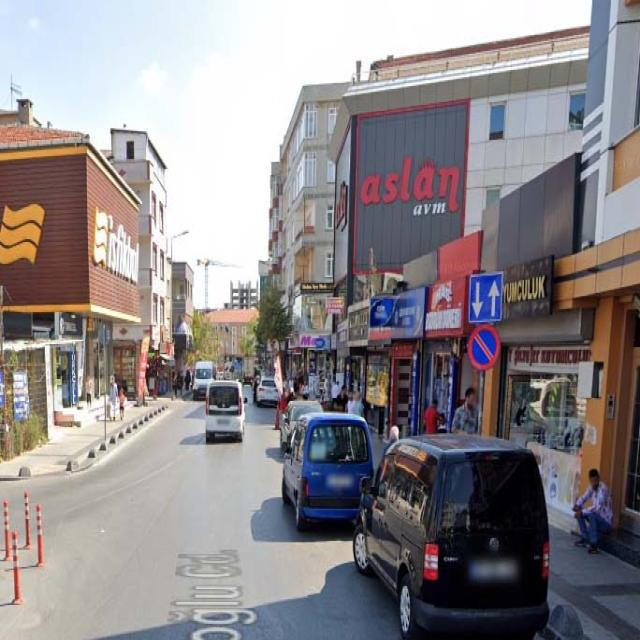parkyasak: (468, 324, 500, 368)
